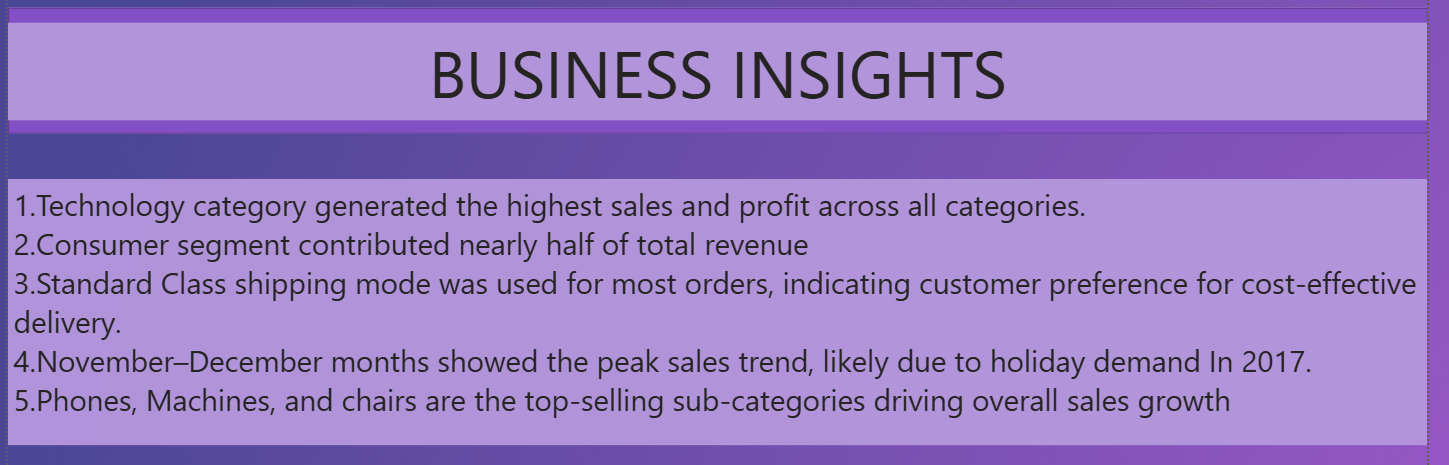

The dashboard page shown, as its layout file describes it:
{"tool":"powerbi","page":{"name":"business insight","canvas":[1280,720],"ordinal":1},"visuals":[{"type":"textbox","box":[0,171.2,1280.3,239.7],"z":1000},{"type":"shape","box":[0,17.1,1280.3,113.7],"z":1500},{"type":"textbox","box":[0,30.6,1280.3,88],"z":2000}]}

Visuals, with their boxes on the page's 1280x720 design canvas (x1, y1, x2, y2). These are canvas units, not pixel positions in the 1449x465 screenshot, which may show the page scaled, cropped or inside an application window:
textbox: <region>0, 171, 1280, 411</region>
shape: <region>0, 17, 1280, 131</region>
textbox: <region>0, 31, 1280, 119</region>
